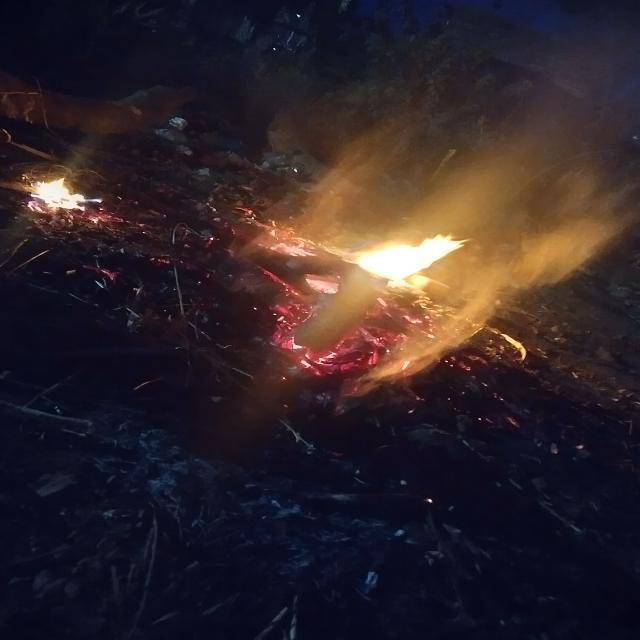Fire: (354, 231, 469, 287), (25, 167, 99, 218)
Smoke: (292, 25, 640, 372)
